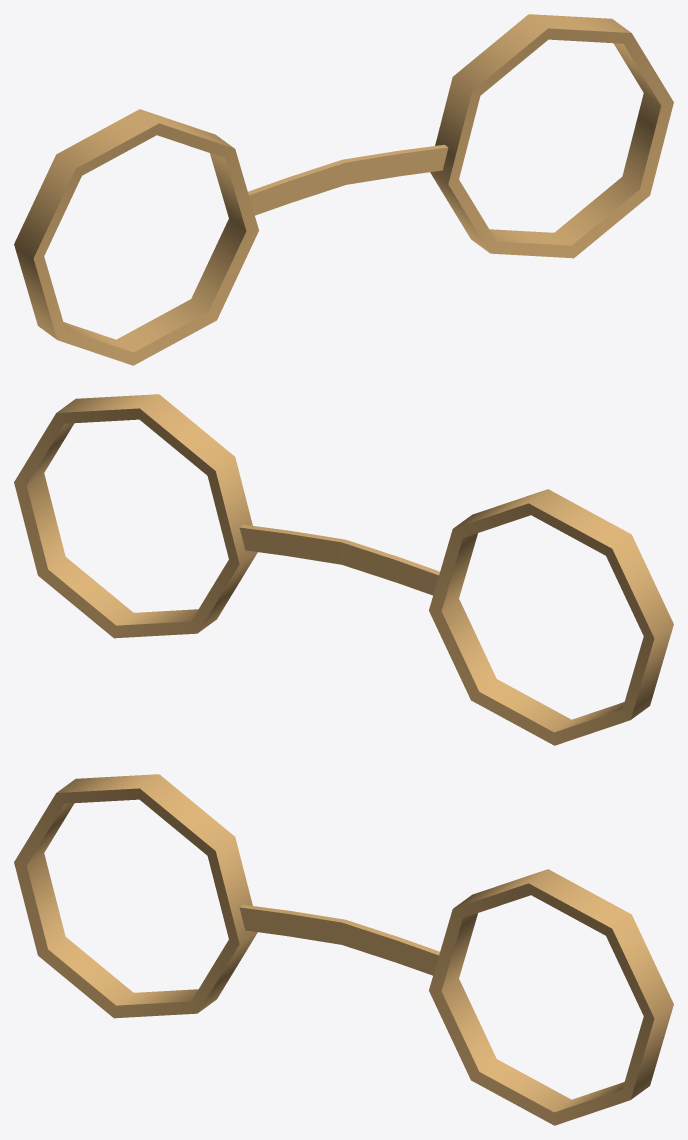
Rendered from oculos.fbx.
3 views of the same model, one above another, from view 1: azimuth 30°, elevation 25°; view 2: azimuth 150°, elevation 25°; view 3: azimuth 330°, elevation 25° (orthographic).
Parts seen in each view (by area): view 1: oculos; view 2: oculos; view 3: oculos.
Part boxes in pixels (left/top/right/bottom): oculos: left=14, top=14, right=673, bottom=365; oculos: left=14, top=394, right=673, bottom=745; oculos: left=14, top=774, right=673, bottom=1125.
Size of the model in its own units: 33.38 by 11.76 by 1.76.
